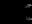person: (25, 3, 31, 10), (26, 19, 31, 23), (14, 19, 18, 23)
